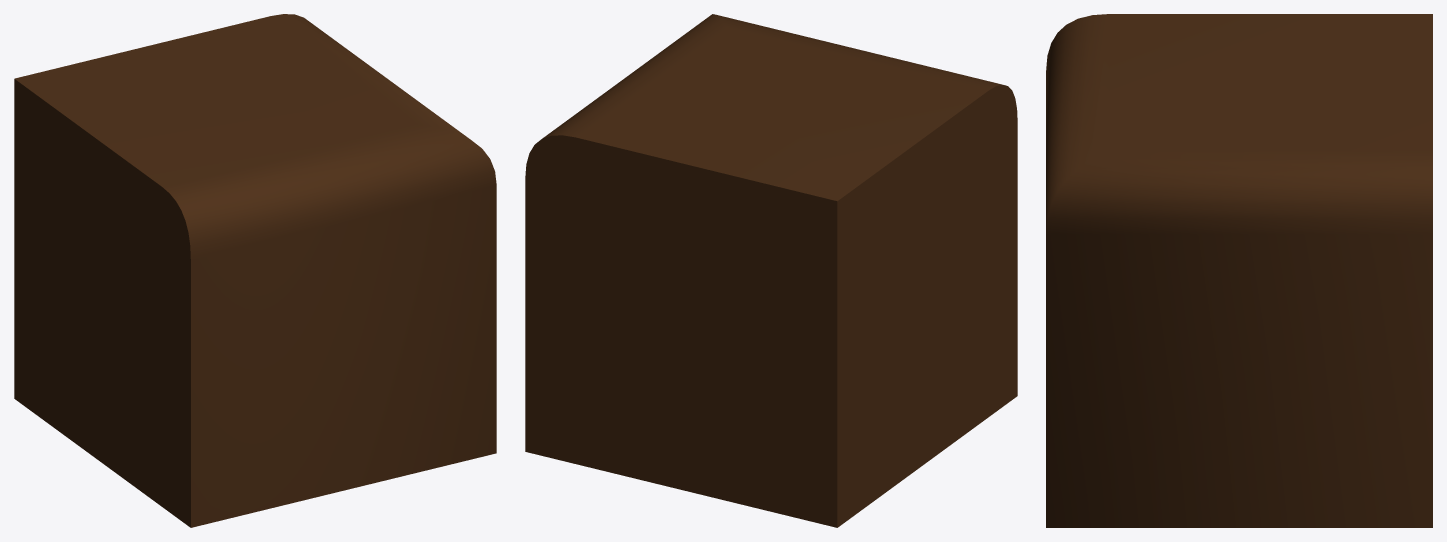
File: SideCounter(corner).FBX
3 renders of one model, left to right at view 1: azimuth 30°, elevation 25°; view 2: azimuth 150°, elevation 25°; view 3: azimuth 270°, elevation 25°, orthographic. The views are drawn at different scales.
Parts seen in each view (by area): view 1: SideCounterCorner; view 2: SideCounterCorner; view 3: SideCounterCorner.
Boxes of the visible parts, left/top/right/bottom form: SideCounterCorner: left=14, top=14, right=496, bottom=527; SideCounterCorner: left=525, top=14, right=1017, bottom=527; SideCounterCorner: left=1046, top=14, right=1432, bottom=527.
Size of the model in its own units: 100 by 100 by 100.
